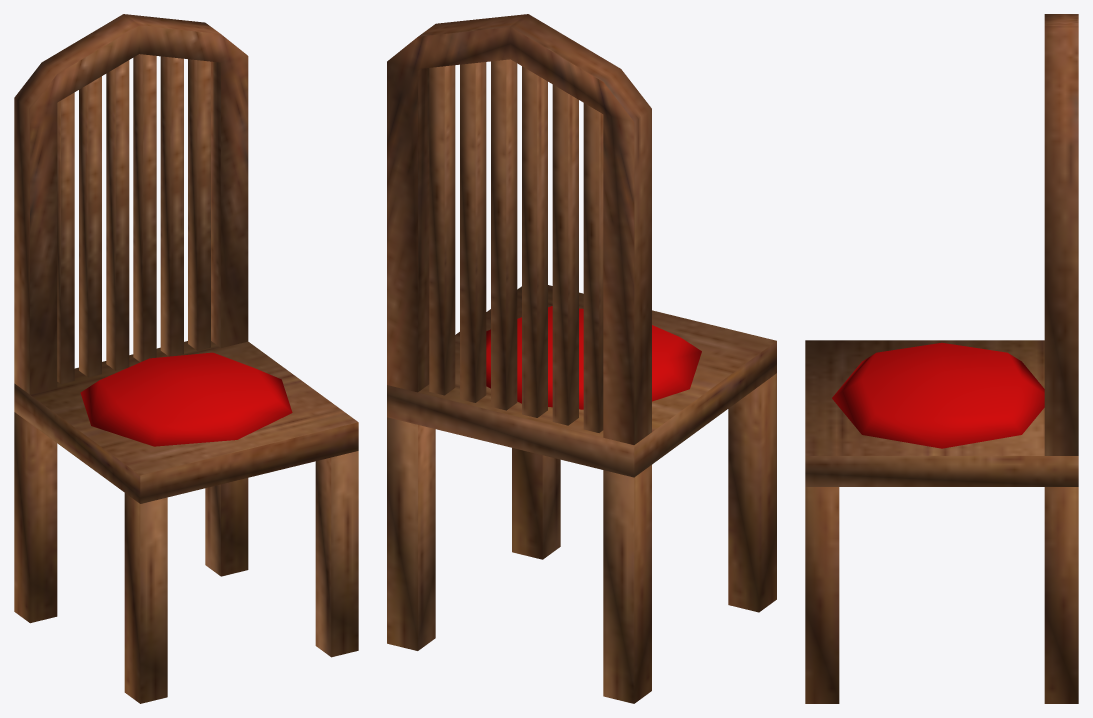
File: chair.obj
The picture shows the model from 3 angles, left to right: view 1: azimuth 30°, elevation 25°; view 2: azimuth 150°, elevation 25°; view 3: azimuth 270°, elevation 25°; orthographic projection. The views are drawn at different scales.
Parts seen in each view (by area): view 1: Cube.003, Cube.002, Cube, Cube.001, Cube.004; view 2: Cube.003, Cube.002, Cube, Cube.001, Cube.004; view 3: Cube.001, Cube.004, Cube.002, Cube.
Boxes of the visible parts, bbox=[...] form: Cube.003: bbox=[57, 54, 210, 383]; Cube.002: bbox=[14, 14, 248, 394]; Cube: bbox=[14, 412, 358, 703]; Cube.001: bbox=[14, 341, 358, 503]; Cube.004: bbox=[80, 352, 292, 446]; Cube.003: bbox=[429, 59, 603, 432]; Cube.002: bbox=[387, 14, 651, 444]; Cube: bbox=[387, 373, 776, 703]; Cube.001: bbox=[387, 285, 776, 477]; Cube.004: bbox=[486, 306, 701, 409]; Cube.001: bbox=[805, 340, 1078, 486]; Cube.004: bbox=[832, 342, 1044, 448]; Cube.002: bbox=[1044, 14, 1078, 455]; Cube: bbox=[805, 487, 1078, 703].
Bounding box in the file's own units: 8 × 20 × 8.
